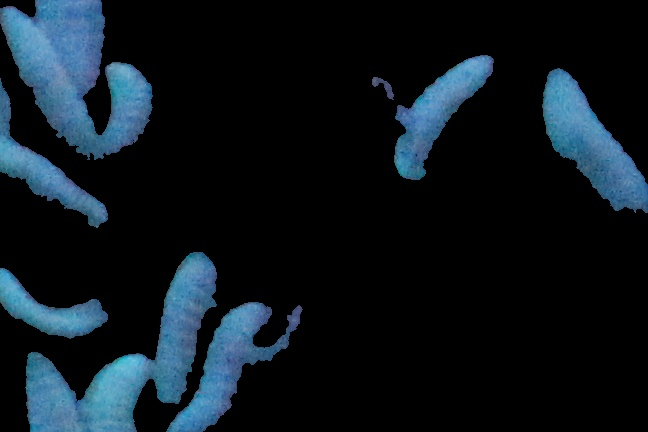larvae: (538, 63, 648, 220), (391, 51, 502, 187), (1, 5, 95, 154), (170, 301, 272, 432), (1, 140, 105, 231), (154, 250, 217, 399), (1, 267, 108, 338), (34, 1, 104, 94), (79, 354, 153, 432), (104, 61, 154, 156), (23, 355, 77, 432)
